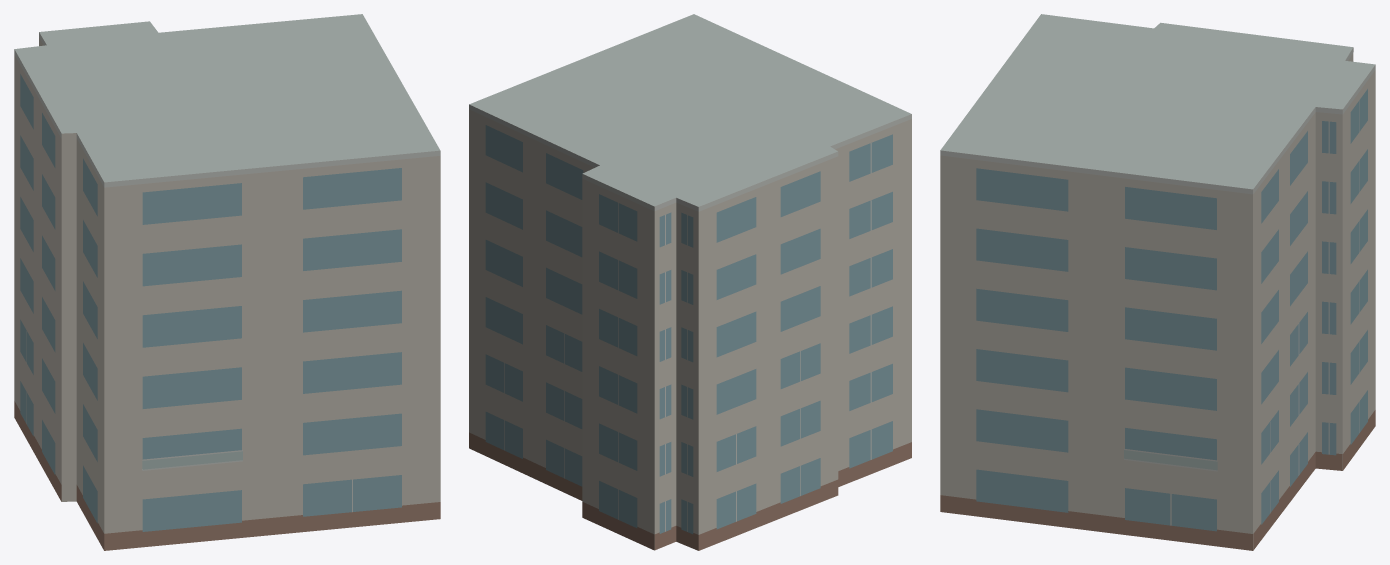
File: survey-upis-32693076.glb
3 views of the same model, side by side, from view 1: azimuth 30°, elevation 25°; view 2: azimuth 150°, elevation 25°; view 3: azimuth 270°, elevation 25° (orthographic). The views are drawn at different scales.
Visible parts, largest first — view 1: survey-upis-32693076.tmp; view 2: survey-upis-32693076.tmp; view 3: survey-upis-32693076.tmp.
Boxes of the visible parts, x1,y1,x2,y2 form: survey-upis-32693076.tmp: [14, 14, 440, 550]; survey-upis-32693076.tmp: [469, 14, 911, 550]; survey-upis-32693076.tmp: [940, 14, 1375, 550].
Bounding box in the file's own units: 18.01 × 17.3 × 18.9.
